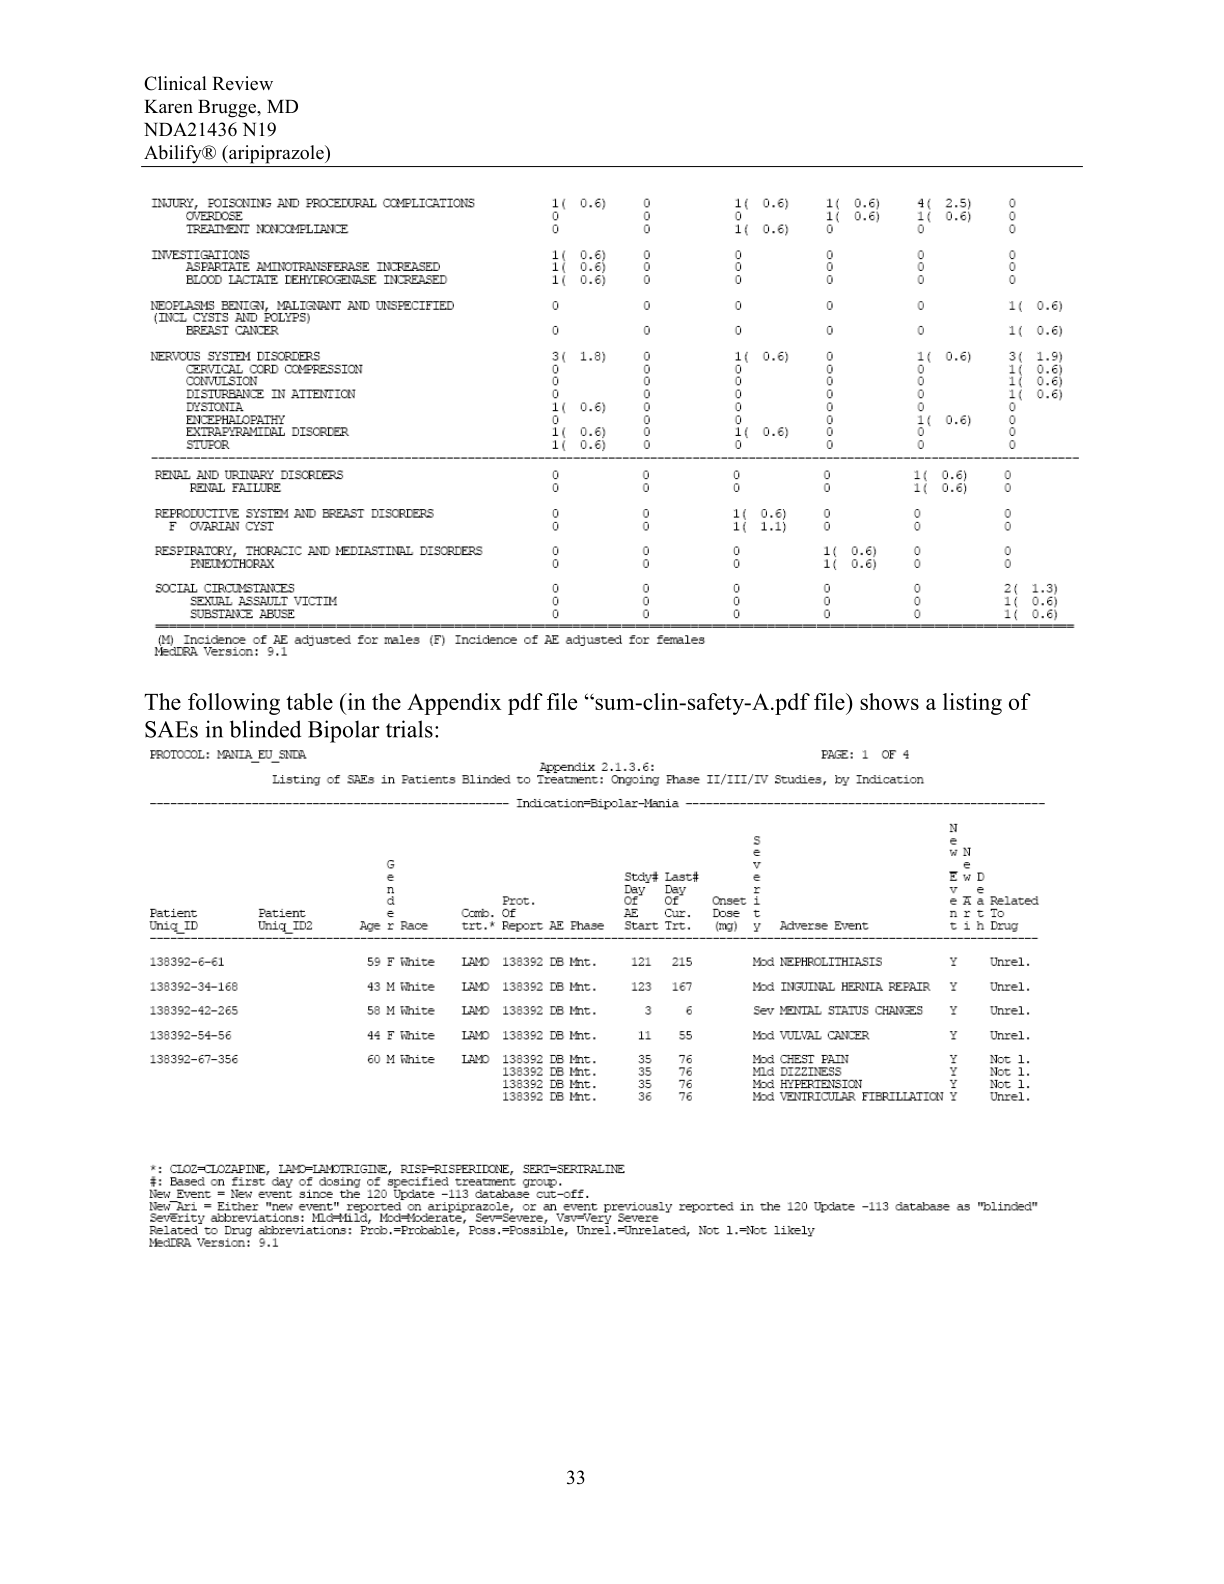partial_lined: (140, 165, 1084, 629), (147, 798, 1050, 1110)
